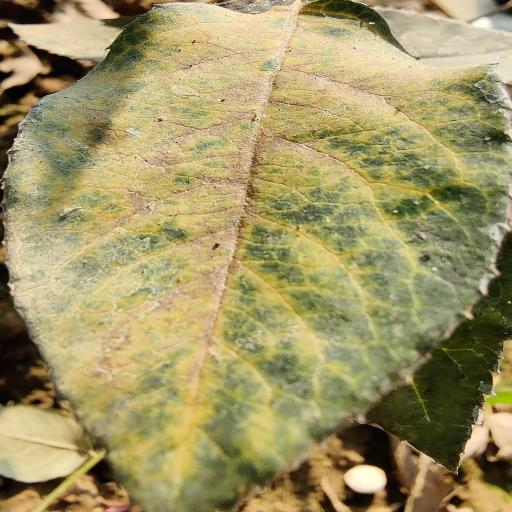red_mite: (4, 0, 512, 512)
